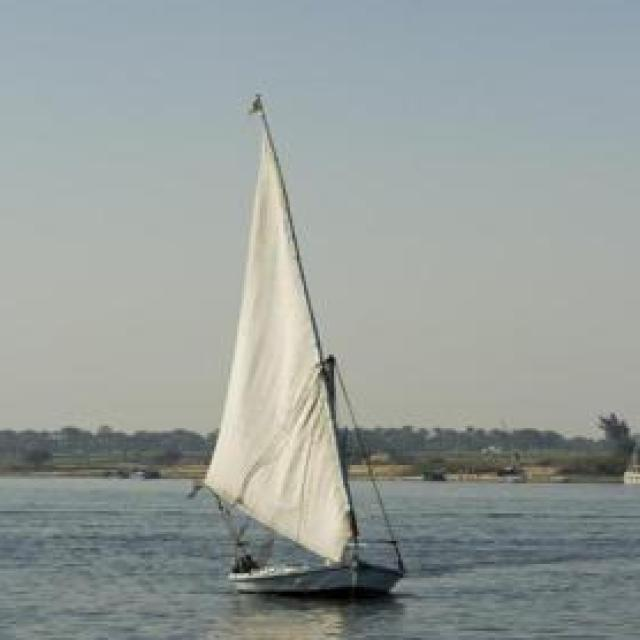sailboat: (202, 84, 409, 596)
